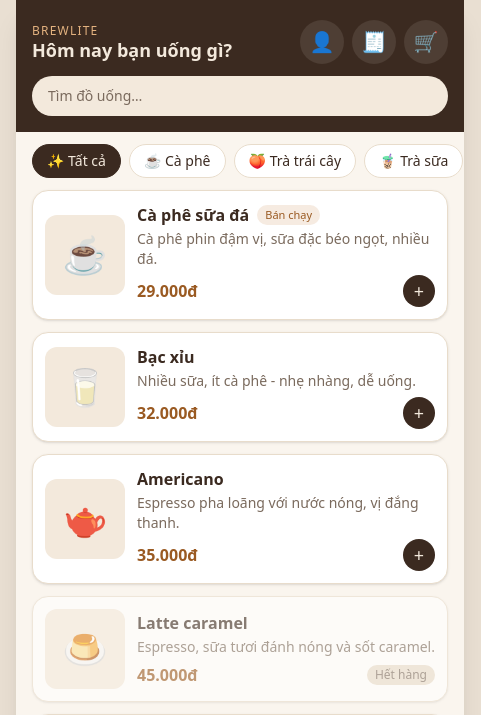
Test: MenuScreen - lọc & tìm kiếm › tìm không dấu và báo rỗng khi không khớp
The width and height of the screenshot is (481, 715).
expect the text "Cà phê sữa đá" is shown: met, box [137,203,249,227]
Type "tra dao" into the search field. click: [240, 96]
box: [32,76,448,116]
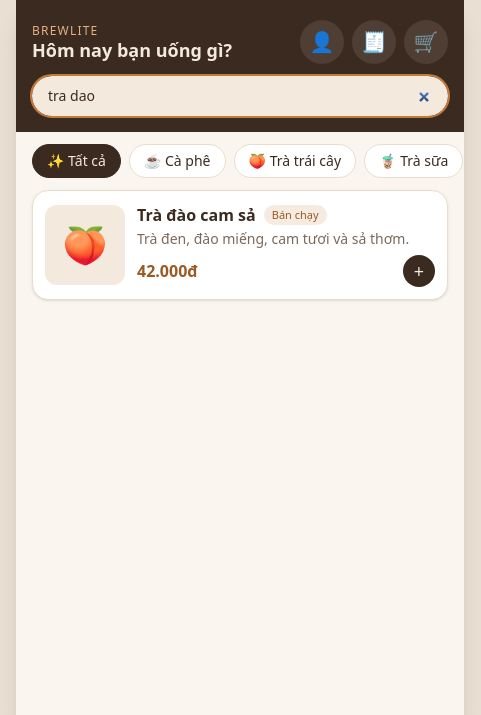
expect the text "Trà đào cam sả" is shown: met, box [137,203,256,227]
Replace the text in the search field with "xyz123". click: [240, 96]
box: [32,76,448,116]
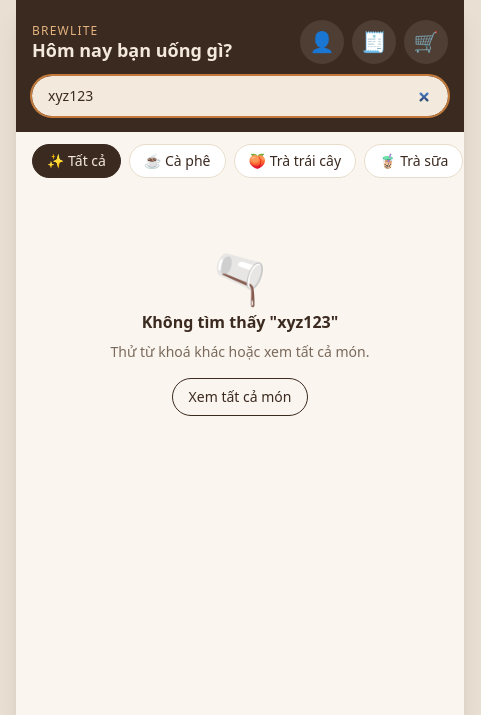
expect the text "Không tìm thấy \"xyz123\"" is shown: met, box [142,310,338,334]
